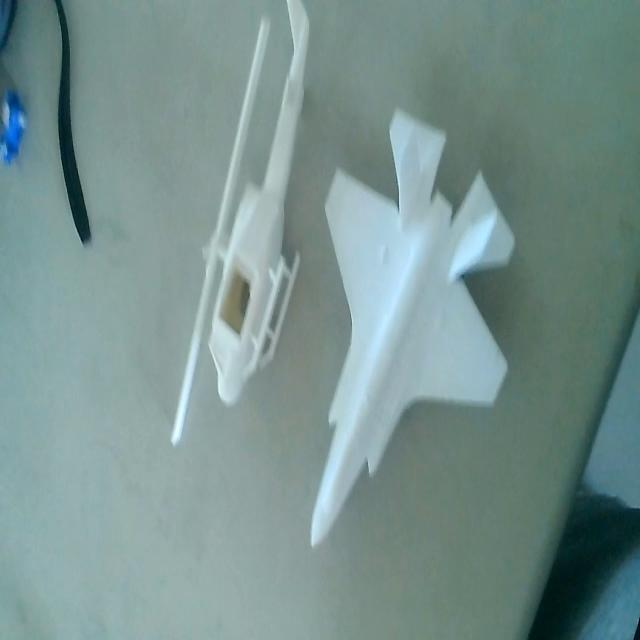Helicopter: (172, 0, 310, 464)
Jet: (310, 102, 516, 554)
